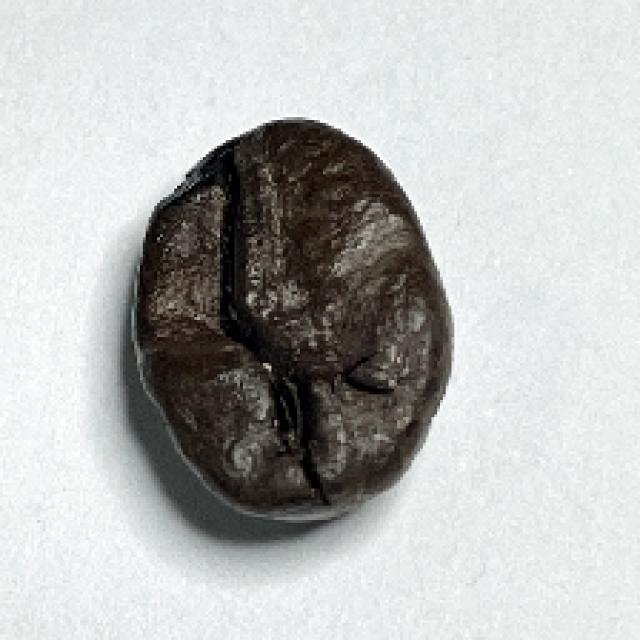bean: (124, 112, 460, 526)
